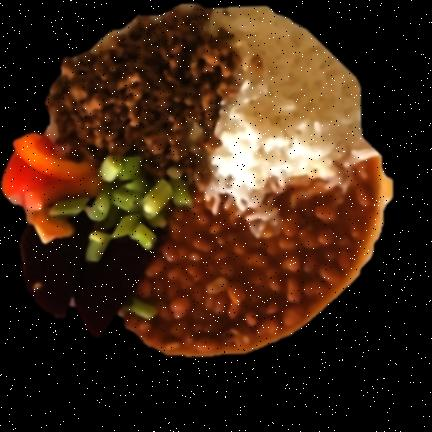beans: (129, 157, 390, 356)
beet: (20, 215, 167, 339)
green_beans: (50, 152, 195, 262)
meat: (46, 10, 231, 183)
rice: (206, 9, 366, 224)
tomato: (2, 134, 99, 241)
